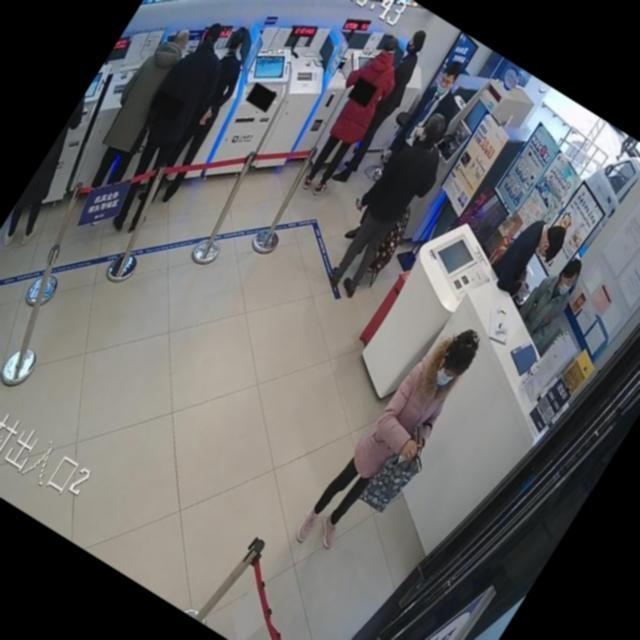person: (292, 304, 492, 570), (82, 12, 252, 238), (310, 106, 462, 308), (337, 58, 476, 248), (134, 22, 270, 208), (67, 19, 204, 200), (285, 27, 417, 201), (0, 87, 115, 255), (323, 26, 439, 188), (394, 59, 478, 165), (486, 206, 572, 306), (510, 248, 590, 342)
